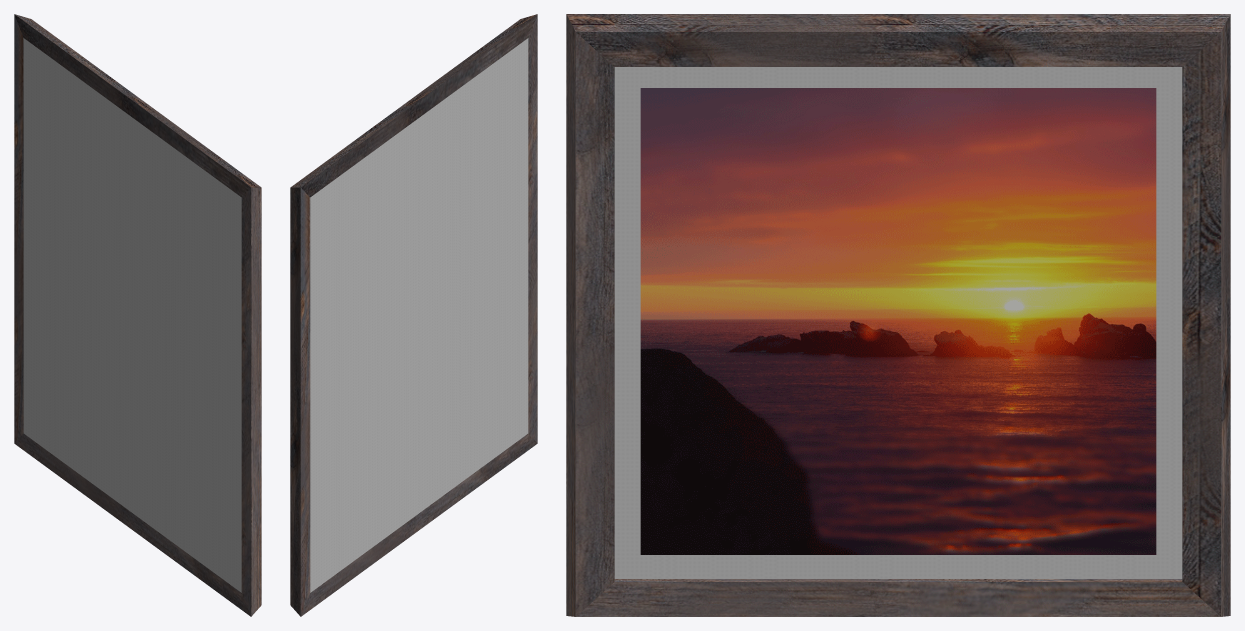
Rendered from Escenario_Oficina_Cuadro3.glb.
3 views of the same model, side by side, from view 1: azimuth 30°, elevation 25°; view 2: azimuth 150°, elevation 25°; view 3: azimuth 270°, elevation 25° (orthographic). The views are drawn at different scales.
Visible parts, largest first — view 1: Cuadro3; view 2: Cuadro3; view 3: Cuadro3.
Part boxes in pixels (box(x1,y1,x2,y2)): Cuadro3: box(14, 14, 261, 616); Cuadro3: box(290, 14, 537, 616); Cuadro3: box(566, 14, 1230, 616).
Bounding box in the file's own units: 0.0311 × 0.9157 × 0.9157.
Materials: 1 (1 with a texture image).
